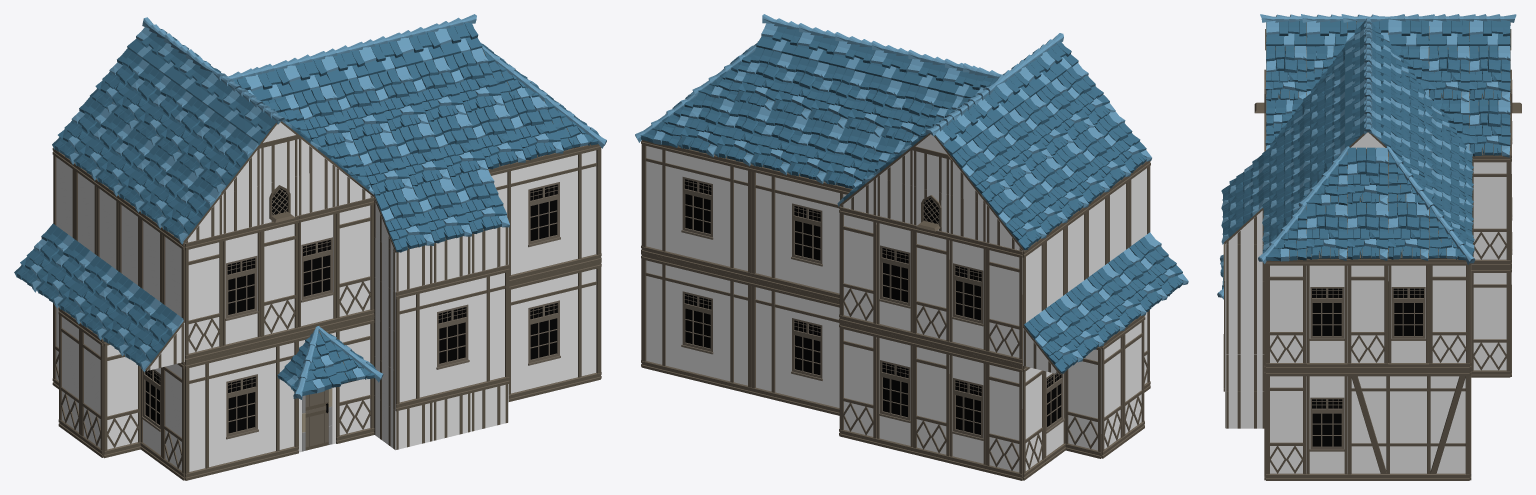
Rendered from House_19_full.glb.
The picture shows the model from 3 angles, left to right: view 1: azimuth 30°, elevation 25°; view 2: azimuth 150°, elevation 25°; view 3: azimuth 270°, elevation 25°; orthographic projection. The views are drawn at different scales.
Visible parts, largest first — view 1: WINDOW_03_9, WINDOW_03_2, WINDOW_03_8, WINDOW_03_7, WALL_01_22, WALL_01_23, WINDOW_04_13, WALL_01_21, WINDOW_04_12, WALL_01_4, WALL_01_2, WALL_01_5 (+79 smaller); view 2: WINDOW_03_4, WINDOW_03_5, WINDOW_03_6, WINDOW_03_3, WALL_01_14, WALL_01_12, WALL_01_9, WALL_01_11, WALL_01_10, WALL_01_13, WINDOW_04_8, WINDOW_04_7 (+66 smaller); view 3: WALL_02_2, WALL_01_18, WINDOW_04_9, WINDOW_04_10, WALL_01_19, WINDOW_04_11, WALL_01_20, WALL_01_17, WALL_01_15, WALL_01_16, ROOF_base_52, ROOF_base_54 (+61 smaller).
Boxes of the visible parts, x1,y1,x2,y2 form: WINDOW_03_9: (395, 264, 509, 411); WINDOW_03_2: (185, 335, 299, 480); WINDOW_03_8: (488, 144, 601, 283); WINDOW_03_7: (508, 261, 601, 401); WALL_01_22: (260, 216, 298, 343); WALL_01_23: (185, 234, 223, 362); WINDOW_04_13: (223, 225, 261, 352); WALL_01_21: (336, 197, 374, 325); WINDOW_04_12: (298, 206, 336, 334); WALL_01_4: (103, 341, 140, 458); WALL_01_2: (336, 316, 374, 443); WALL_01_5: (80, 323, 103, 457); WINDOW_03_4: (641, 253, 751, 394); WINDOW_03_5: (641, 140, 751, 279); WINDOW_03_6: (751, 164, 852, 301); WINDOW_03_3: (751, 280, 839, 415); WALL_01_14: (985, 242, 1022, 366); WALL_01_12: (839, 206, 876, 330); WALL_01_9: (985, 357, 1022, 480); WALL_01_11: (839, 322, 876, 445); WALL_01_10: (912, 340, 949, 462); WALL_01_13: (912, 224, 949, 348); WINDOW_04_8: (949, 233, 985, 357); WINDOW_04_7: (876, 215, 912, 339); WALL_02_2: (1347, 370, 1469, 480); WALL_01_18: (1347, 259, 1388, 370); WINDOW_04_9: (1307, 259, 1347, 370); WINDOW_04_10: (1388, 259, 1428, 370); WALL_01_19: (1429, 259, 1469, 370); WINDOW_04_11: (1307, 370, 1347, 480); WALL_01_20: (1266, 370, 1306, 480); WALL_01_17: (1266, 259, 1306, 370); WALL_01_15: (1471, 267, 1510, 377); WALL_01_16: (1471, 155, 1510, 266); ROOF_base_52: (1347, 202, 1388, 260); ROOF_base_54: (1347, 147, 1388, 204).
Size of the model in its own units: 12.31 by 8.65 by 7.49.
Materials: 1 (1 with a texture image).
